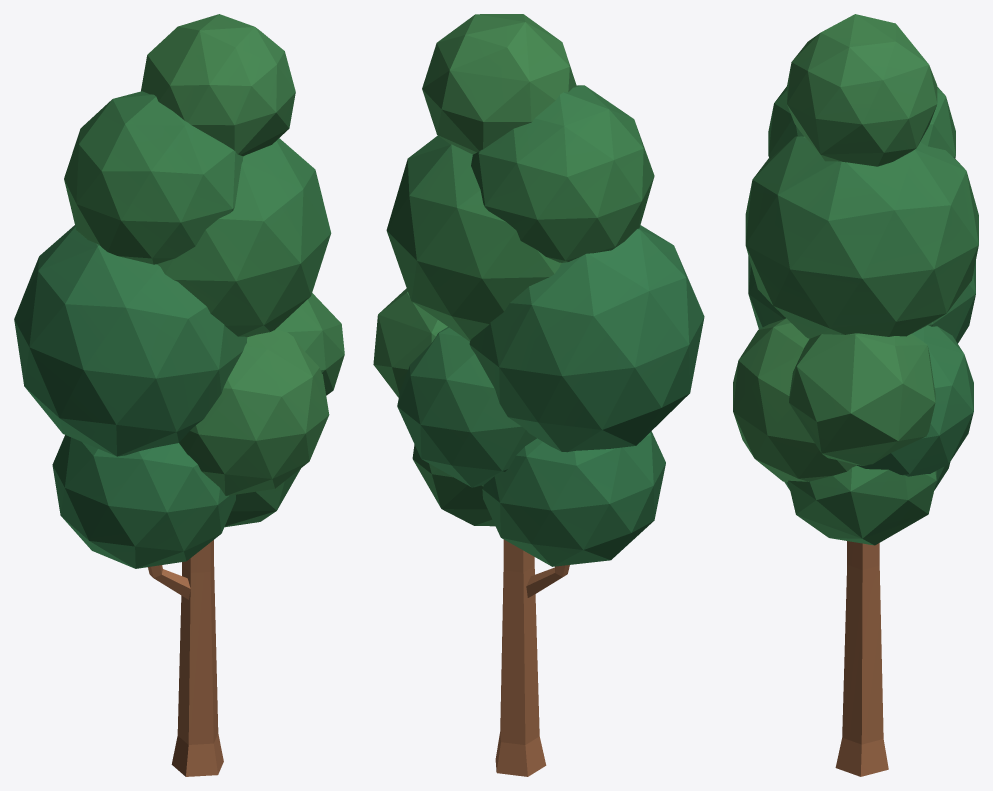
Rendered from tree.fbx.
The picture shows the model from 3 angles, left to right: view 1: azimuth 30°, elevation 25°; view 2: azimuth 150°, elevation 25°; view 3: azimuth 270°, elevation 25°; orthographic projection.
Parts seen in each view (by area): view 1: tree-oak; view 2: tree-oak; view 3: tree-oak.
Boxes of the visible parts, bbox=[...] form: tree-oak: bbox=[14, 14, 344, 776]; tree-oak: bbox=[373, 14, 704, 776]; tree-oak: bbox=[733, 14, 978, 776].
Size of the model in its own units: 323 by 745 by 221.
Materials: 1 (1 with a texture image).
